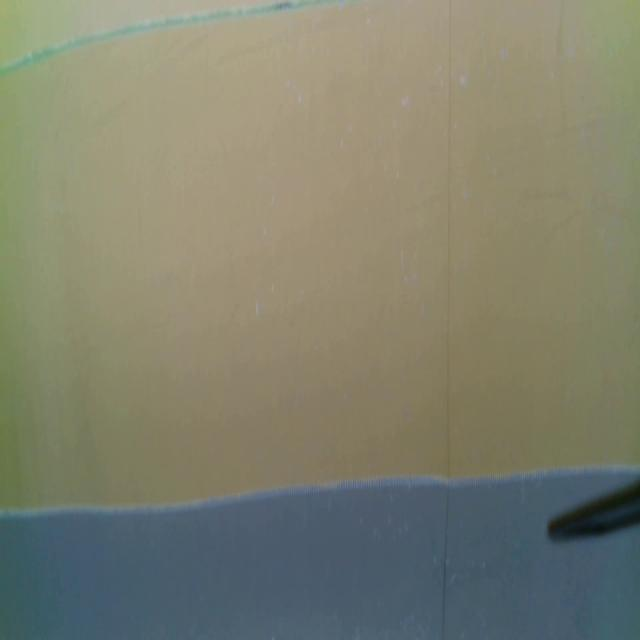crease: (440, 1, 454, 640)
